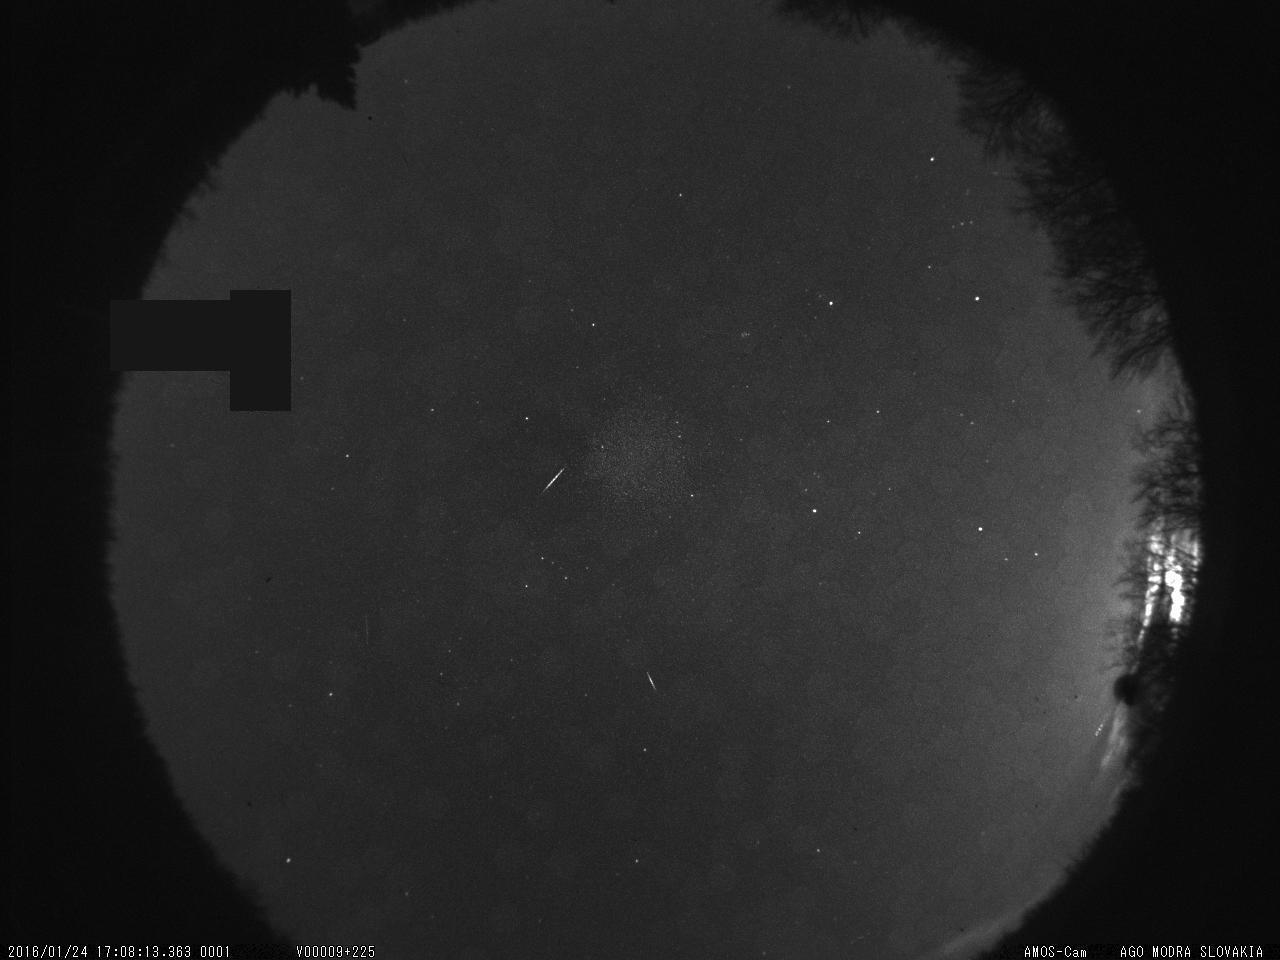meteor: (521, 455, 585, 510)
